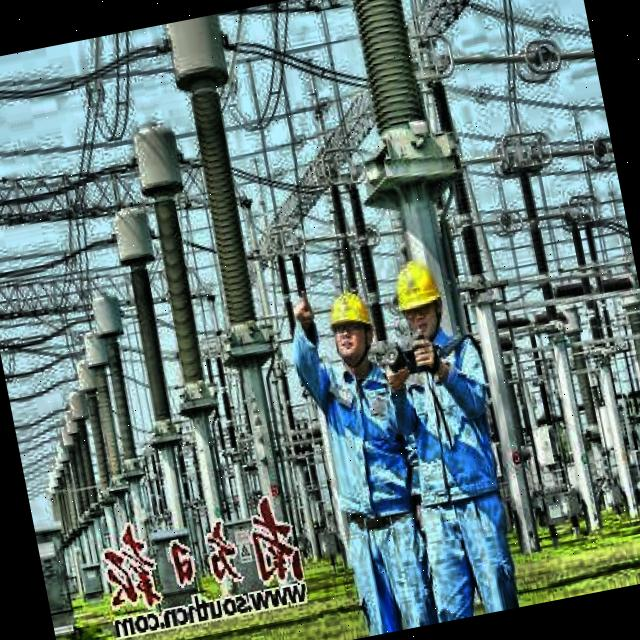helmet: (382, 243, 454, 348), (320, 282, 386, 373)
